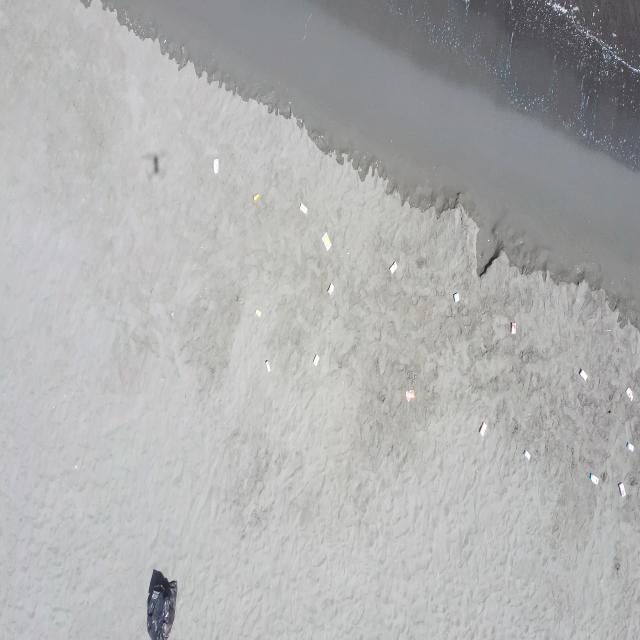Garbage: (148, 569, 176, 639), (322, 232, 331, 249), (404, 388, 415, 400), (588, 472, 597, 484), (212, 158, 219, 173), (579, 368, 587, 380), (388, 260, 396, 272), (312, 353, 319, 366), (617, 482, 624, 495), (624, 441, 633, 451), (300, 201, 307, 213), (479, 423, 486, 435), (523, 448, 529, 460), (452, 291, 459, 301), (627, 387, 632, 400), (264, 360, 269, 372), (327, 283, 332, 295), (252, 193, 260, 200), (511, 321, 515, 333), (255, 308, 260, 316)
